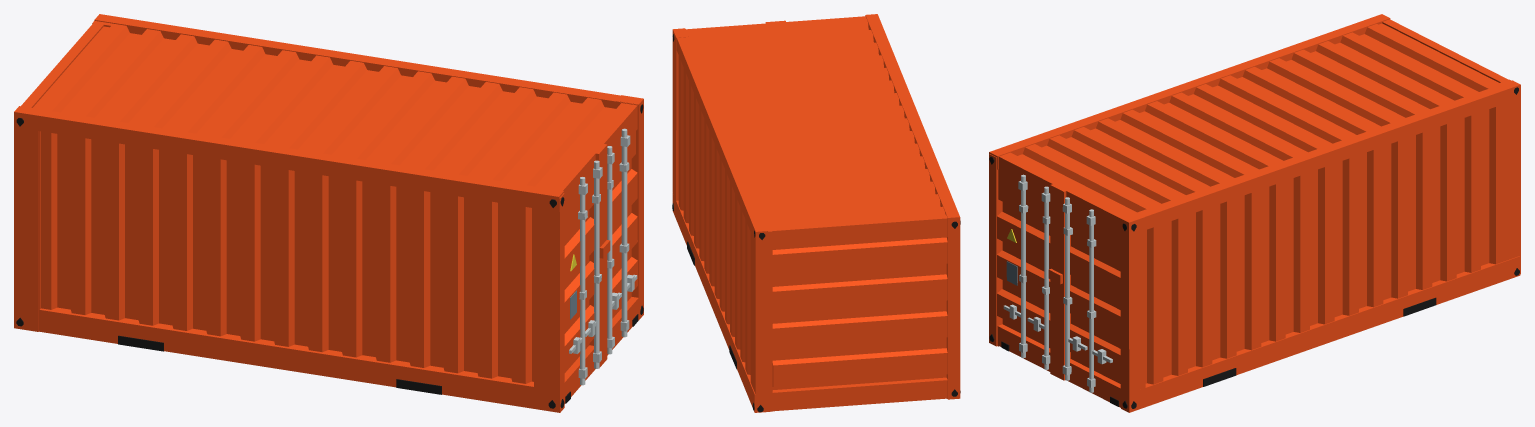
The model's file is node.002_lev2.glb.
3 renders of one model, left to right at view 1: azimuth 30°, elevation 25°; view 2: azimuth 150°, elevation 25°; view 3: azimuth 270°, elevation 25°, orthographic. The views are drawn at different scales.
Visible parts, largest first — view 1: node.002_lev2; view 2: node.002_lev2; view 3: node.002_lev2.
Part boxes in pixels (left/top/right/bottom): node.002_lev2: left=14, top=14, right=643, bottom=412; node.002_lev2: left=672, top=14, right=960, bottom=412; node.002_lev2: left=989, top=14, right=1520, bottom=412.
Bounding box in the file's own units: 6.17 × 2.62 × 6.65.
